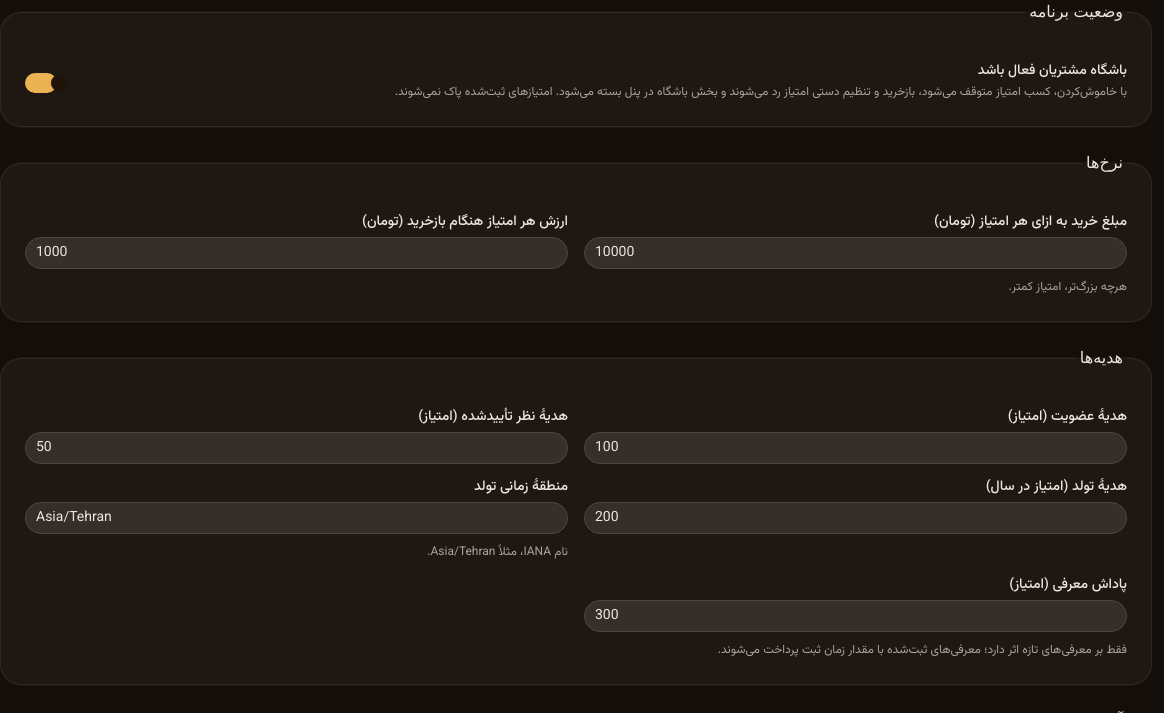
Test case: LoyaltyProgrammeForm › surfaces a server field error on the offending input
This screenshot has width=1164, height=713.
Replace the text in the field labelled "منطقهٔ زمانی تولد" with "Mars/Olympus" at (296, 518), box x1=25 y1=502 x2=568 y2=534
(page scrolled)
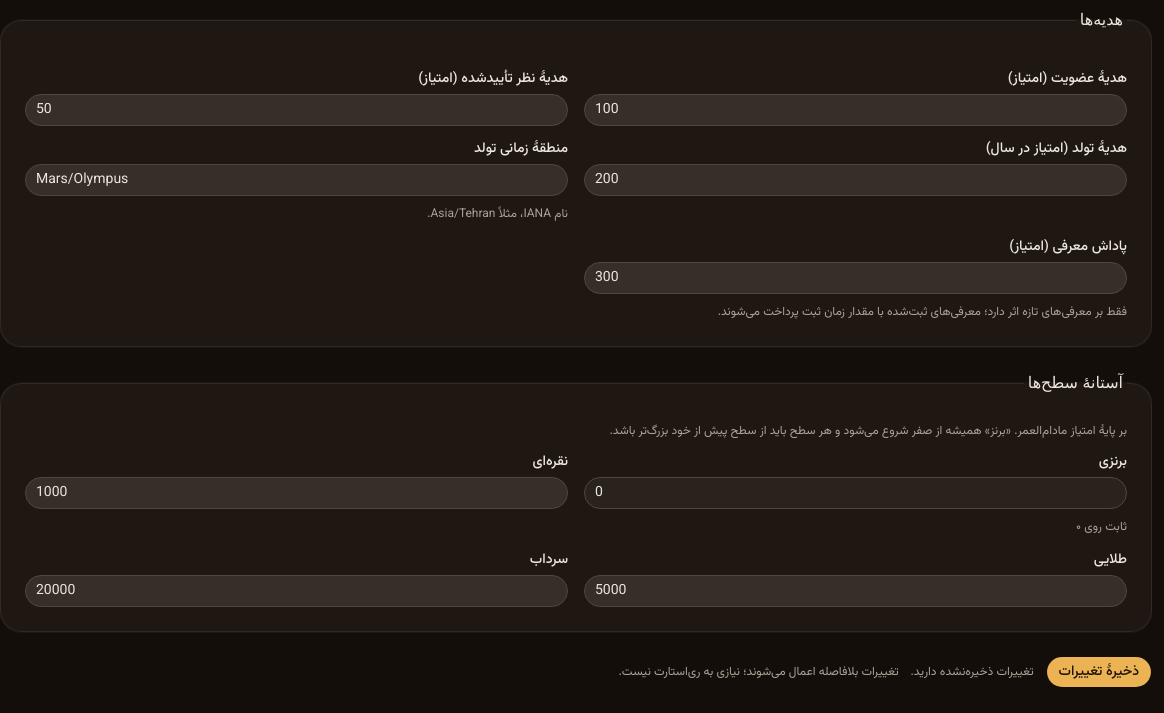
Click the button "ذخیرهٔ تغییرات" at (1099, 672), box x1=1046 y1=656 x2=1152 y2=688
(page scrolled)
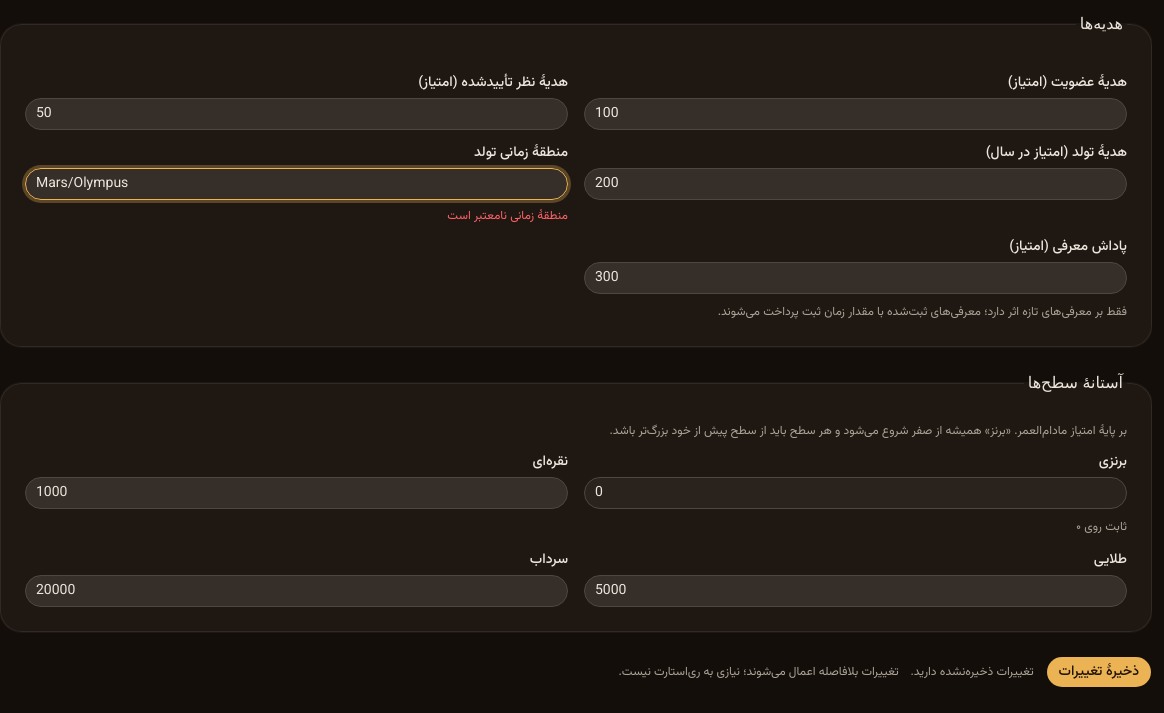
expect the text "منطقهٔ زمانی نامعتبر است" is shown: met, box x1=447 y1=207 x2=568 y2=225
